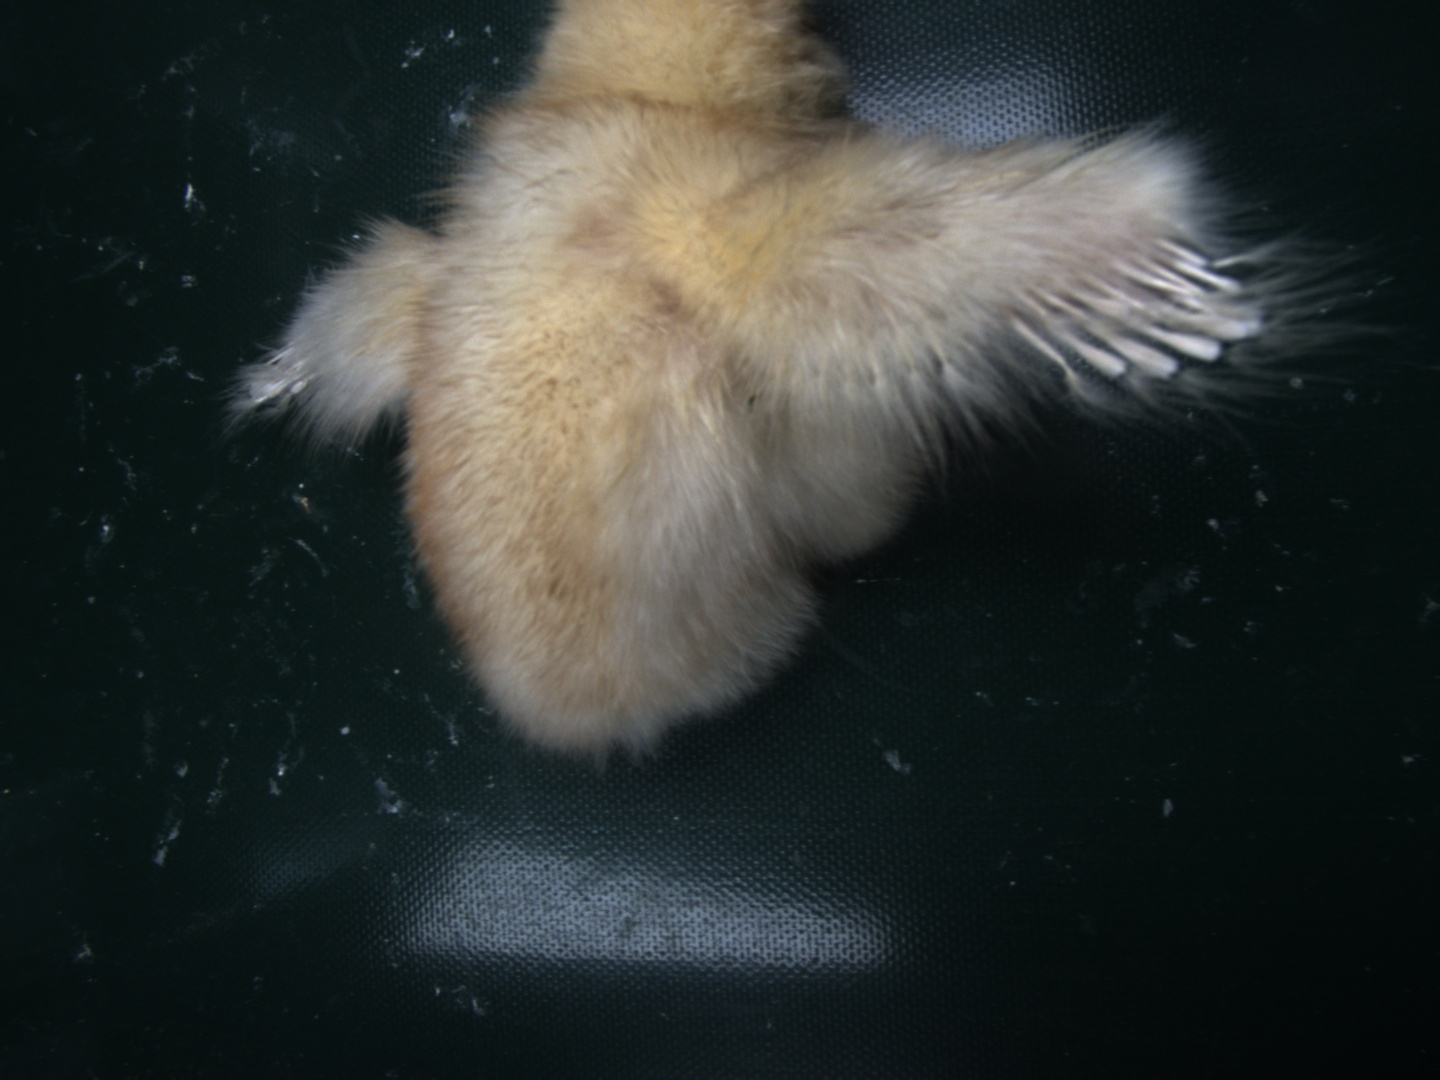female: (1010, 236, 1261, 379)
